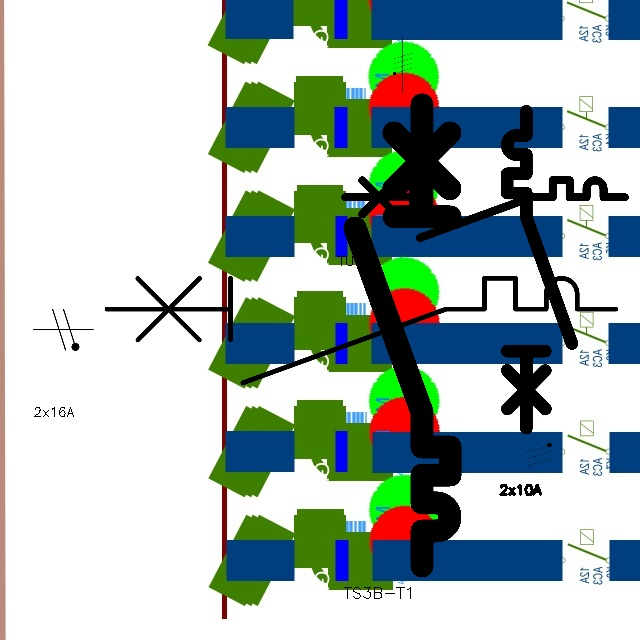interruptor_termomagnetico: (93, 265, 629, 396), (343, 92, 462, 577), (499, 103, 580, 437), (338, 173, 632, 245)
